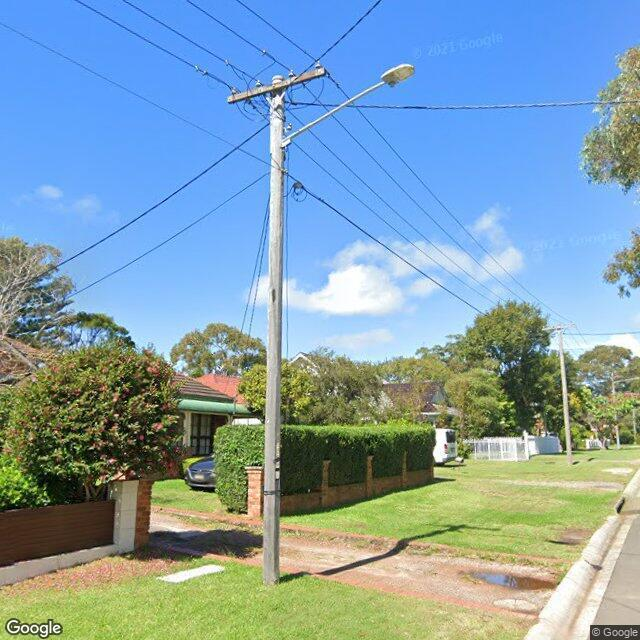crossarm: (226, 70, 328, 104), (540, 319, 577, 335)
streetlight: (281, 60, 417, 146)
timber-pole: (259, 77, 287, 588), (556, 322, 573, 465), (610, 370, 621, 450)
